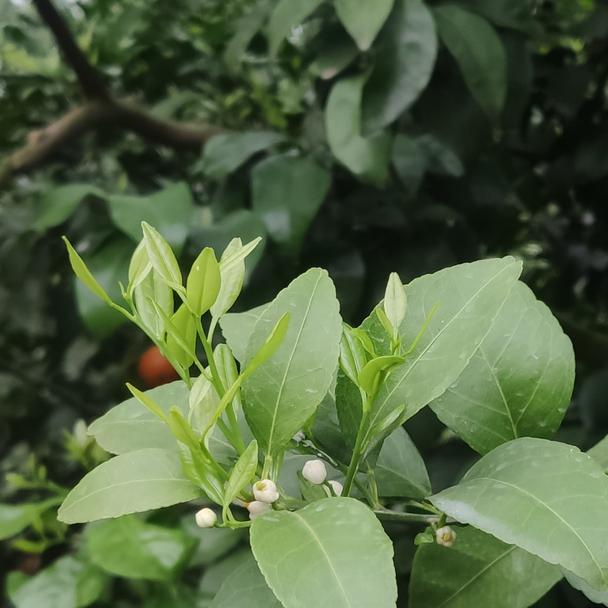shoot: (74, 234, 203, 400), (157, 238, 262, 418), (138, 373, 255, 507), (343, 302, 433, 470)
